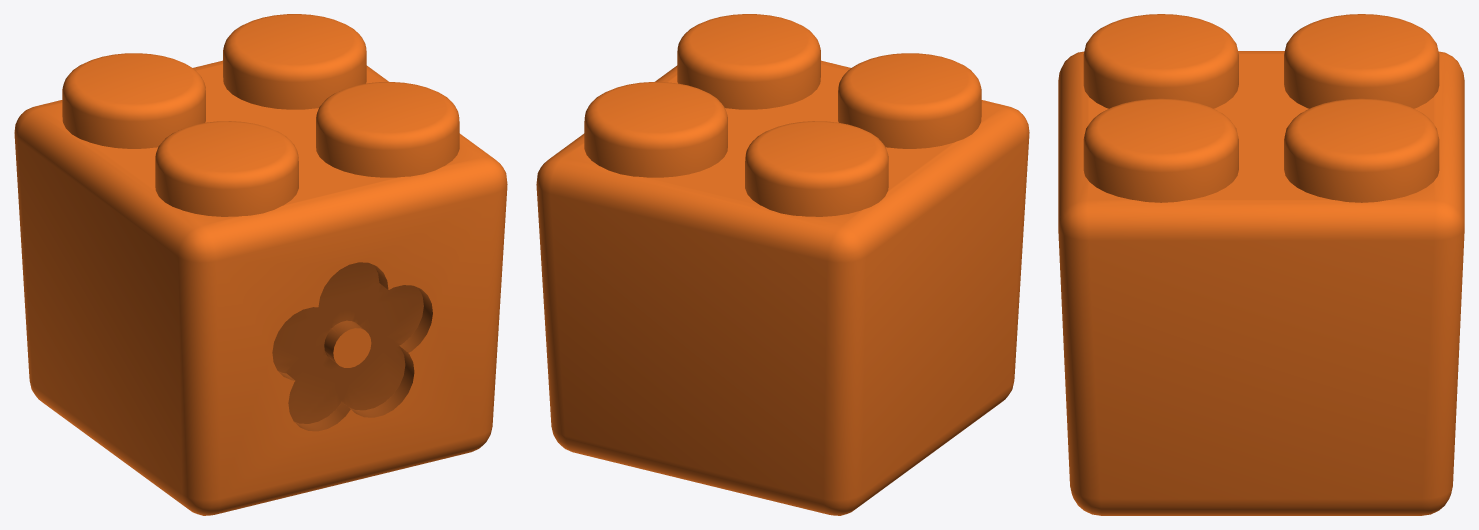
Rendered from Block_Flower.fbx.
3 renders of one model, left to right at view 1: azimuth 30°, elevation 25°; view 2: azimuth 150°, elevation 25°; view 3: azimuth 270°, elevation 25°, orthographic. The views are drawn at different scales.
Visible parts, largest first — view 1: Block_Flower; view 2: Block_Flower; view 3: Block_Flower.
Boxes of the visible parts, x1=… form: Block_Flower: x1=14, y1=14, x2=507, y2=515; Block_Flower: x1=536, y1=14, x2=1029, y2=515; Block_Flower: x1=1058, y1=14, x2=1464, y2=515.
Size of the model in its own units: 99.39 by 97.5 by 99.39.
